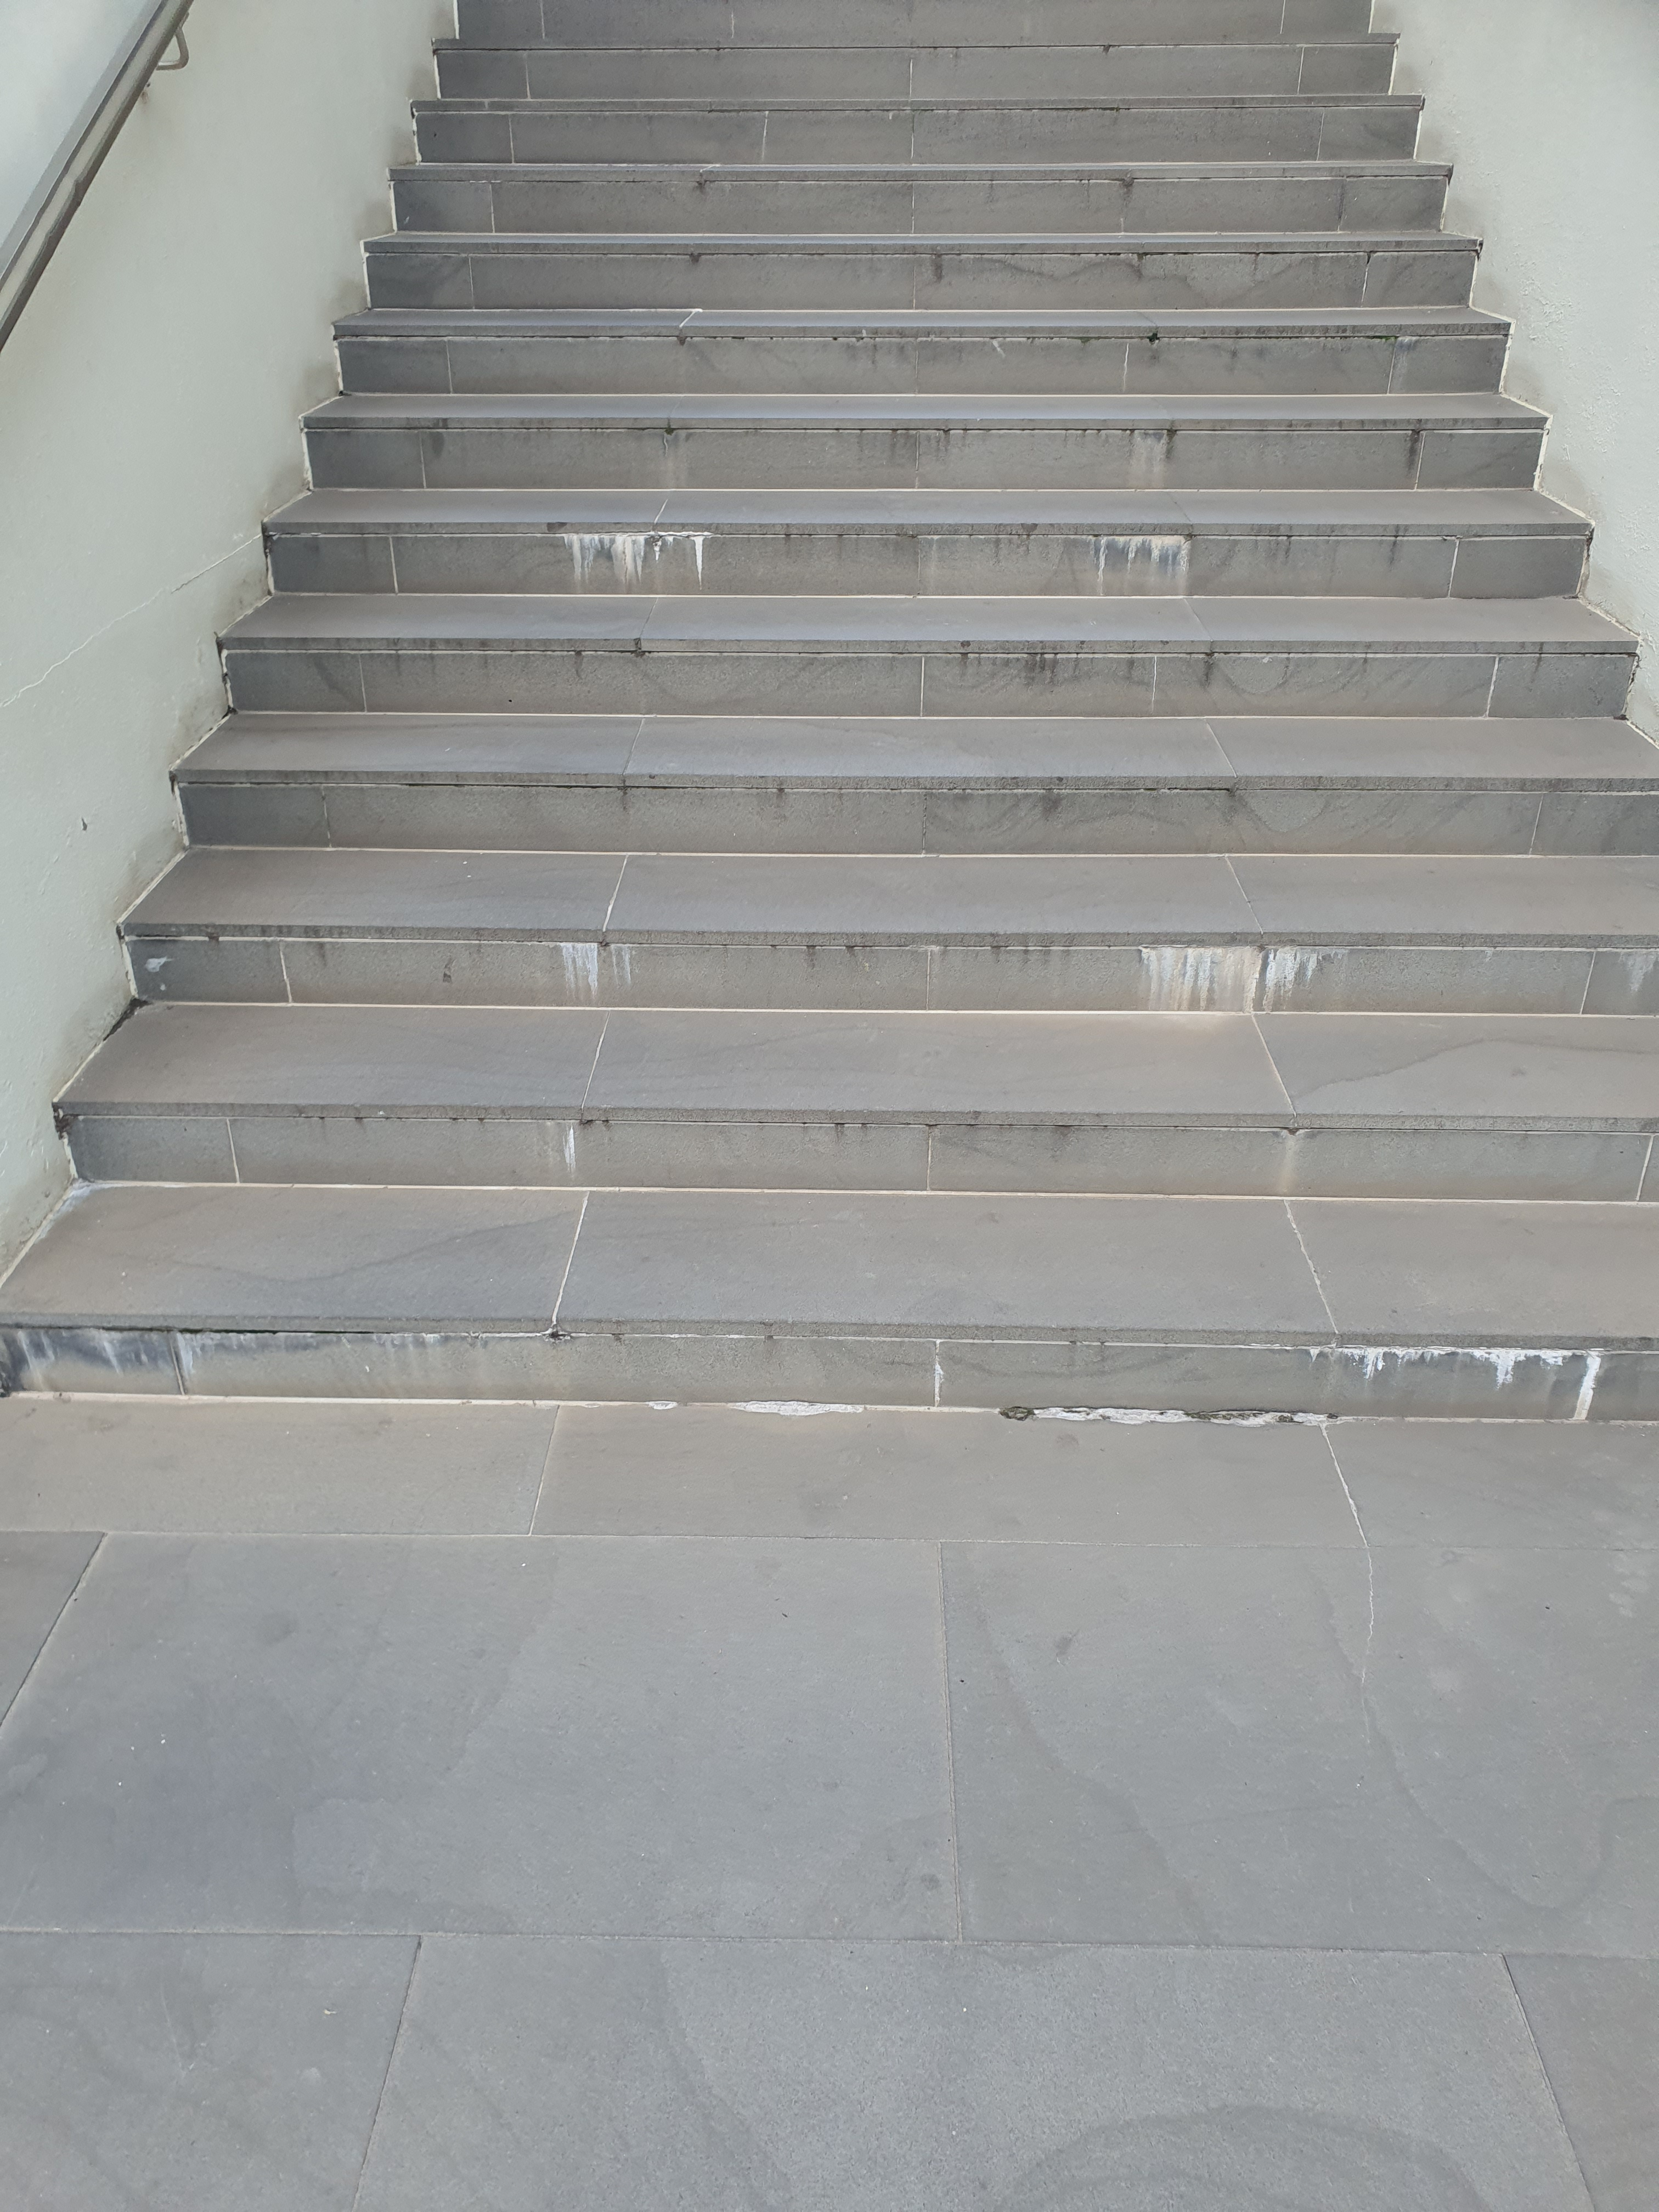upstairs: (300, 730, 1450, 1757)
